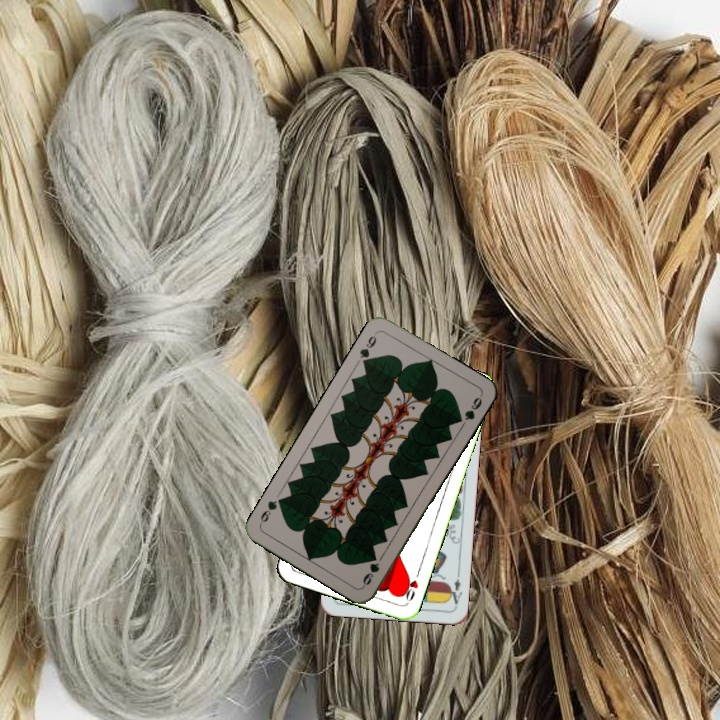EA: (445, 568, 465, 609)
G9: (355, 328, 379, 369), (359, 558, 382, 589)
HO: (398, 566, 423, 605)
